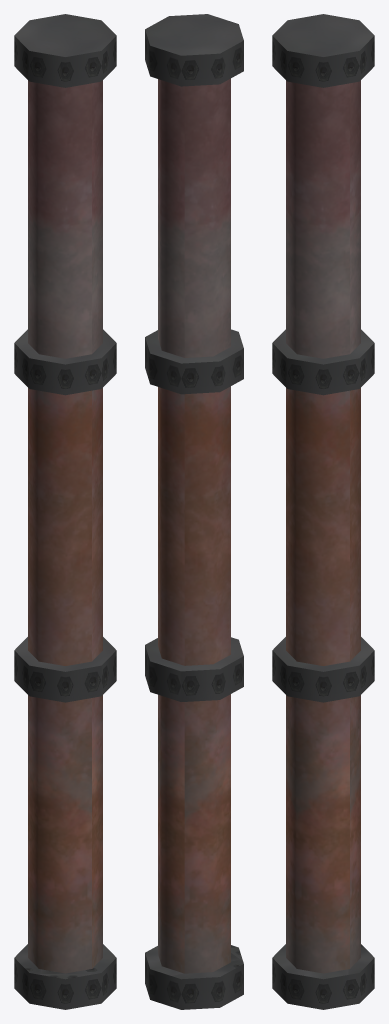
File: Pipe_Temperature.obj
3 renders of one model, left to right at view 1: azimuth 90°, elevation 25°; view 2: azimuth 210°, elevation 25°; view 3: azimuth 270°, elevation 25°, orthographic.
Visible parts, largest first — view 1: Circle.004; view 2: Circle.004; view 3: Circle.004.
Boxes of the visible parts, x1,y1,x2,y2 form: Circle.004: (14,14,116,1009); Circle.004: (145,14,243,1009); Circle.004: (272,14,374,1009).
Size of the model in its own units: 0.33 by 3.39 by 0.33.
Materials: 2 (2 with a texture image).
